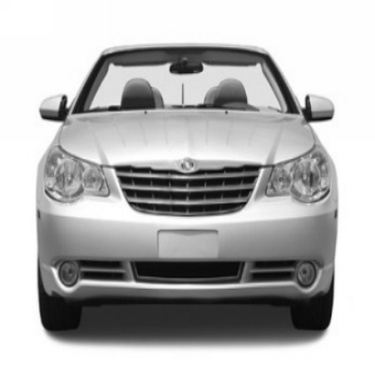car: (22, 39, 343, 343)
